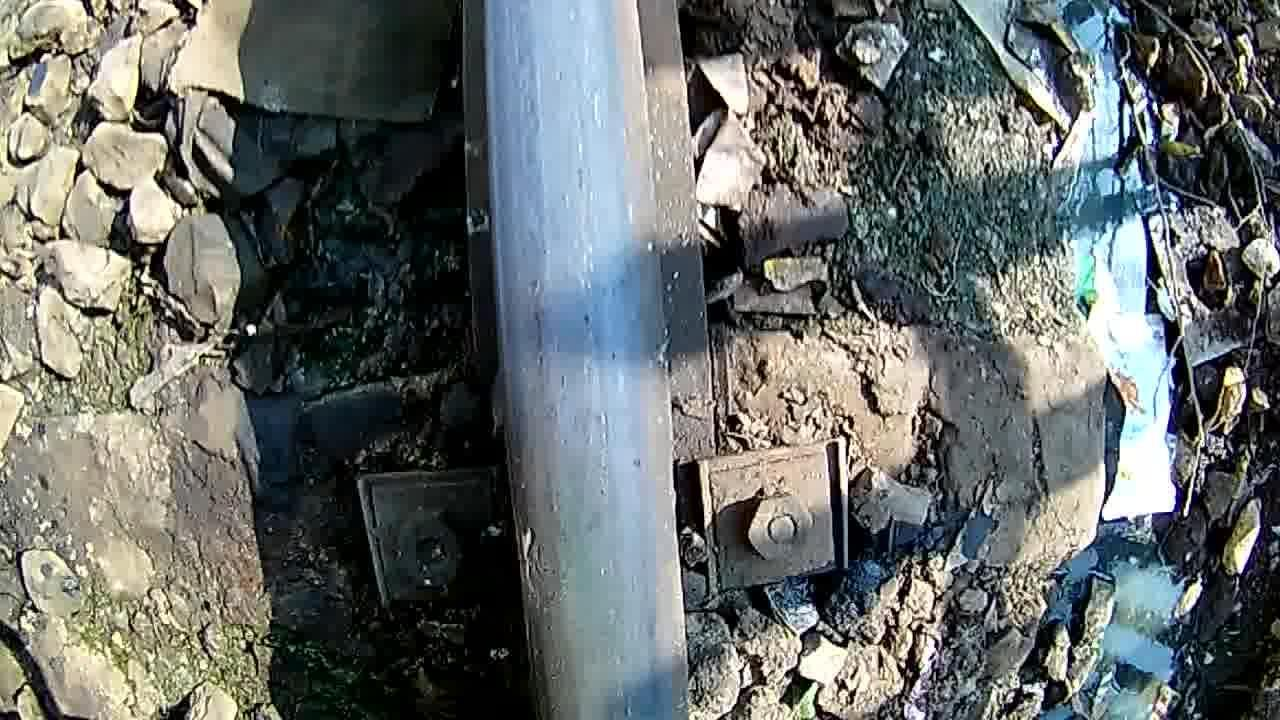crack: (480, 0, 684, 720)
